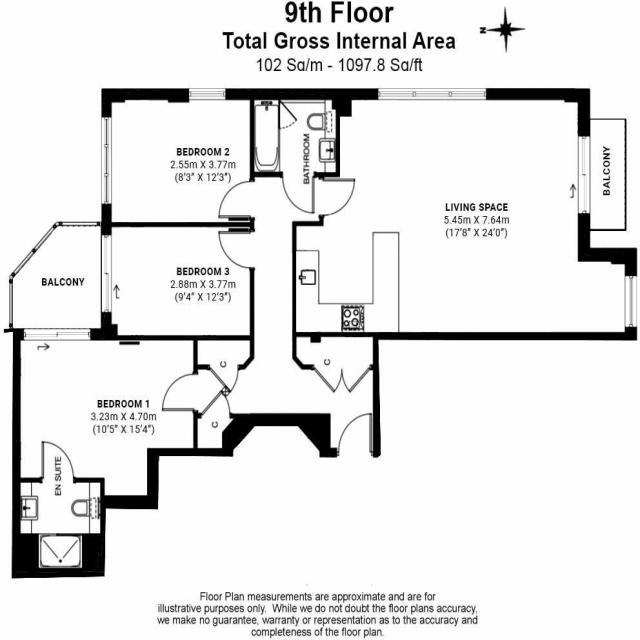DOOR: (36, 435, 76, 483), (336, 407, 375, 456), (279, 169, 318, 217), (160, 369, 199, 414), (215, 229, 255, 271), (320, 176, 358, 218), (216, 180, 255, 220)
ROOM: (291, 88, 636, 341), (12, 324, 198, 536), (101, 88, 254, 227), (101, 221, 255, 340)
WINDOW: (377, 83, 490, 107), (98, 113, 115, 206), (575, 132, 593, 217), (98, 231, 115, 317), (23, 326, 92, 344), (622, 268, 639, 329), (188, 84, 227, 103)
